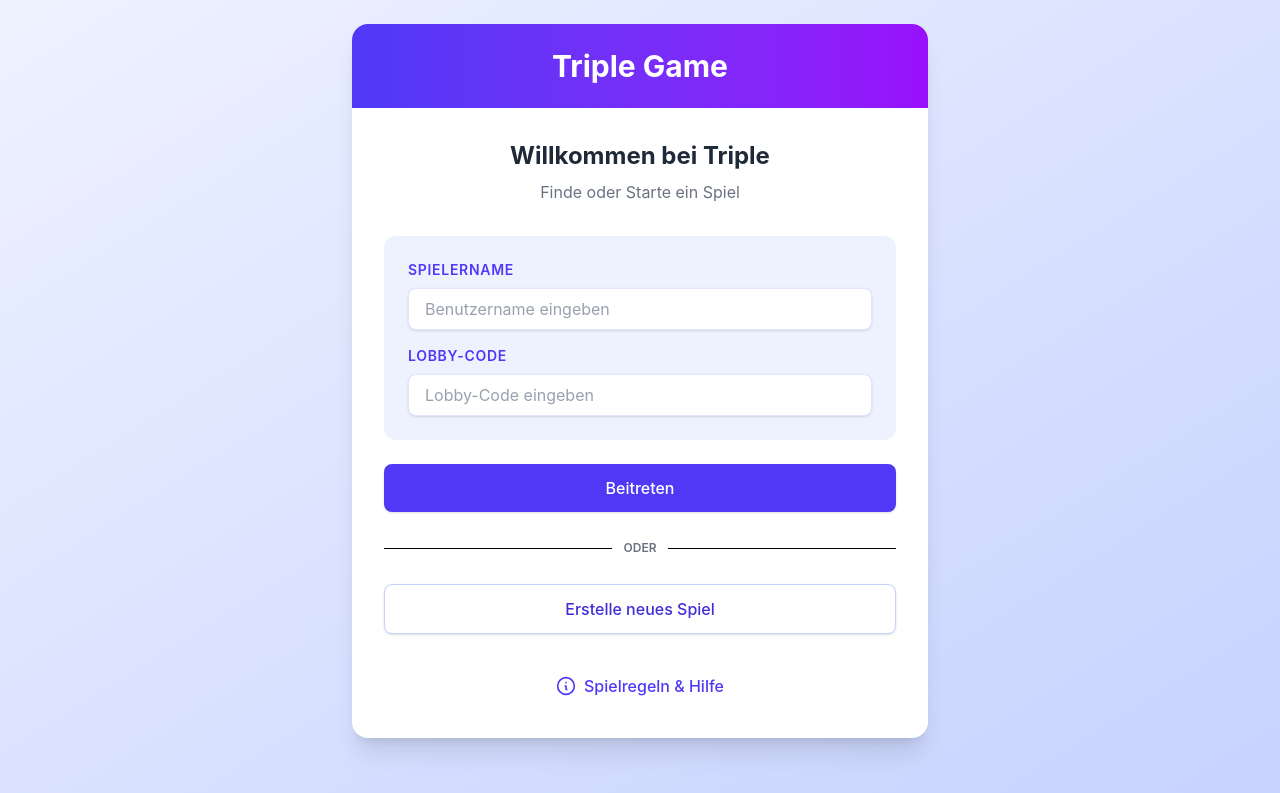
LandingPage › should handle API error when creating lobby
// Fill in username
Type "TestUser" into the field named "username". click: (640, 309)
box: [408,288,872,330]
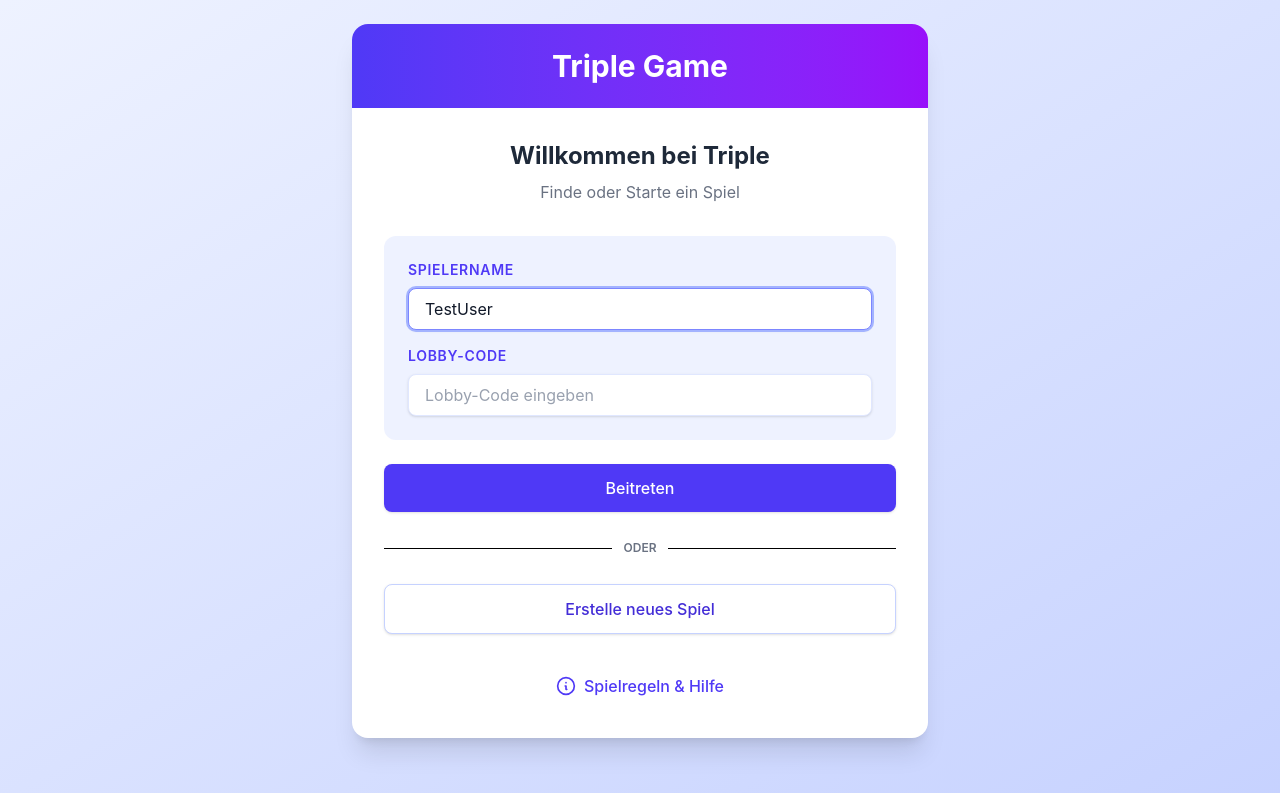
// Click create lobby button
Click the button with test id "create-game-button". click: (640, 609)
box: [384,584,896,634]
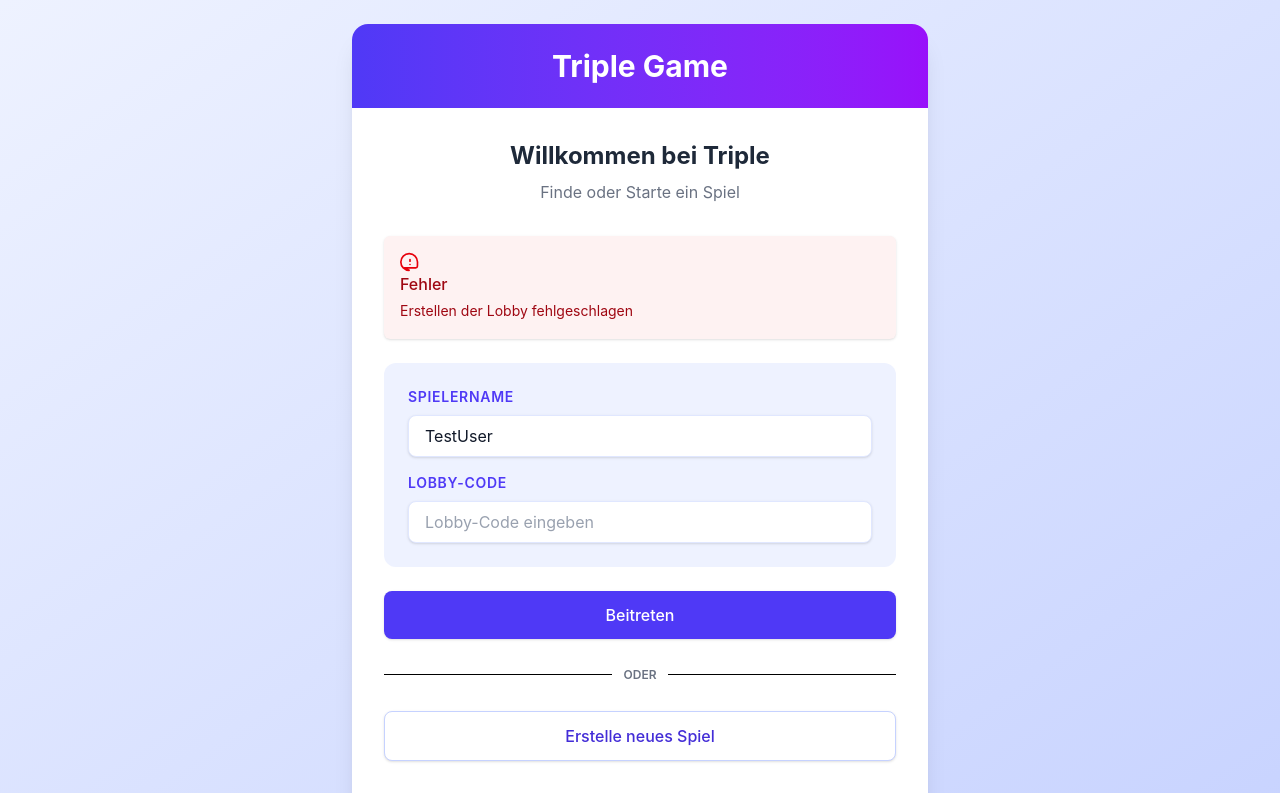
Check: the text "Erstellen der Lobby fehlgeschlagen" is shown, box [400,302,633,319]
